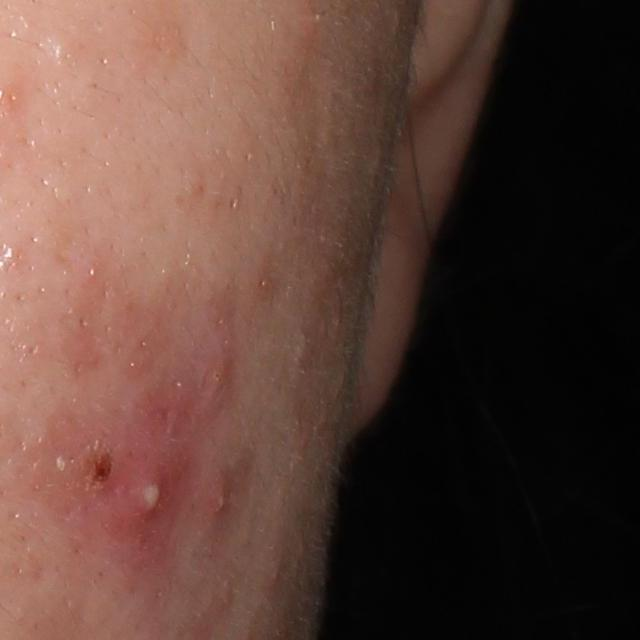papule: (202, 469, 238, 522)
pustule: (118, 457, 175, 546)
